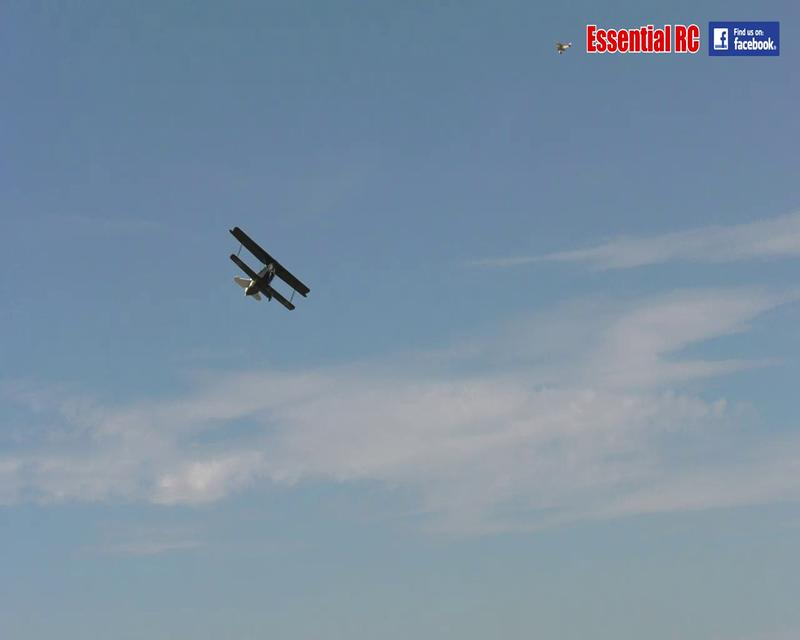UAV: (228, 225, 310, 311)
